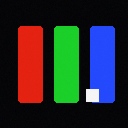1 square: (86, 89, 98, 101)
